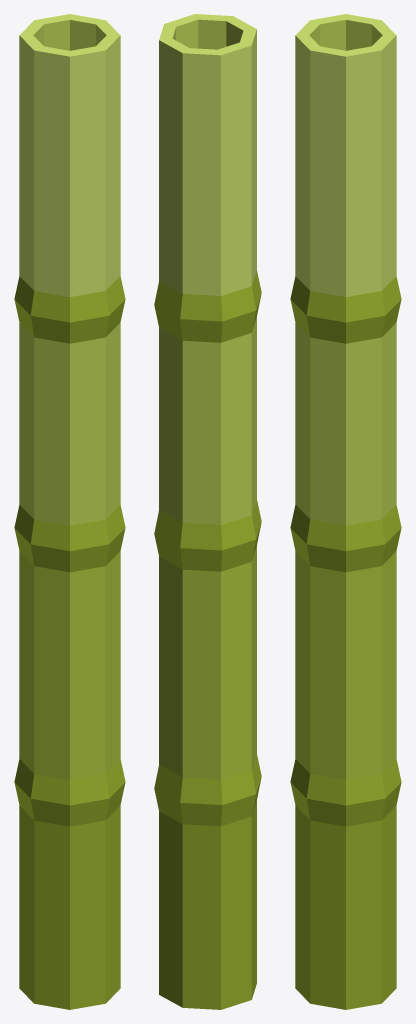
The model's file is bamboo_green.fbx.
3 views of the same model, side by side, from view 1: azimuth 90°, elevation 25°; view 2: azimuth 150°, elevation 25°; view 3: azimuth 270°, elevation 25° (orthographic).
Parts seen in each view (by area): view 1: bamboo_green; view 2: bamboo_green; view 3: bamboo_green.
Boxes of the visible parts, x1,y1,x2,y2 form: bamboo_green: (14, 14, 125, 1009); bamboo_green: (154, 14, 261, 1009); bamboo_green: (290, 14, 401, 1009).
Size of the model in its own units: 24.2 by 229 by 24.2.
